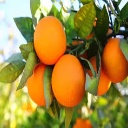orange: (51, 54, 88, 108)
